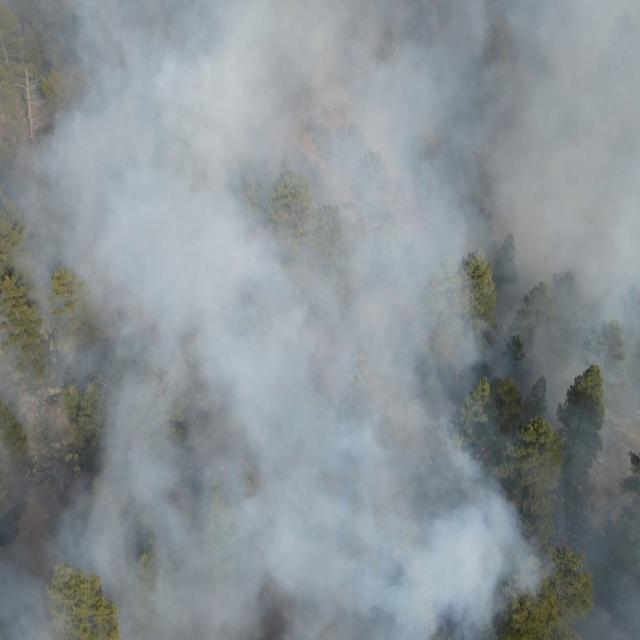fire: (476, 446, 494, 466)
smoke: (0, 0, 492, 640), (493, 1, 640, 398), (553, 397, 640, 640), (492, 484, 518, 630), (519, 528, 553, 602)
